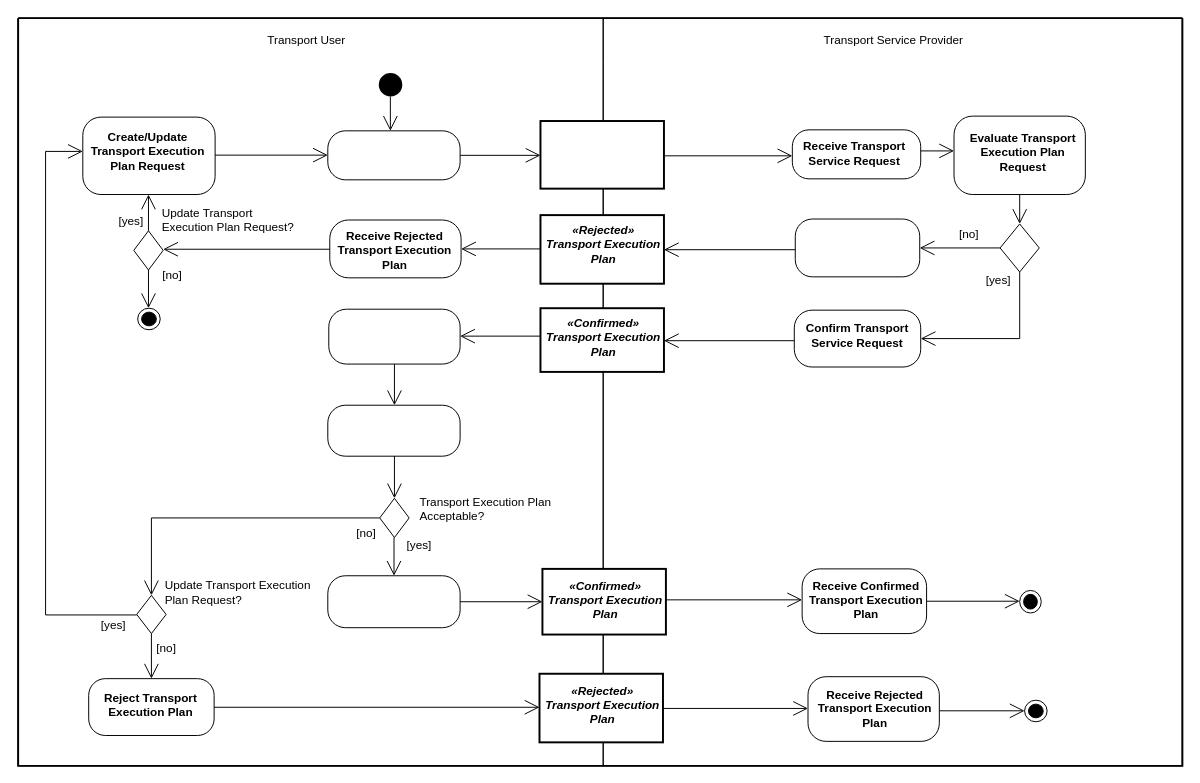
The diagram is 1200 pixels wide and 783 high, and some of its shapes have lost their labels. Each missing label, with the centre of its shape:
"Confirm Transport Execution Plan" goes at (393,601).
"Evaluate Transport Execution Plan" goes at (393,430).
"Receive Proposed Transport Execution Plan" goes at (394,336).
"Reject Transport Service Request" goes at (857,247).
"Request Transport Service" goes at (393,155).
"Transport Execution Plan Request Acceptable?" goes at (1019,247).
"Transport Service Ready For Execution" goes at (1030,601).
"«NotConfirmed» Transport Execution Plan Request" goes at (601,154).
